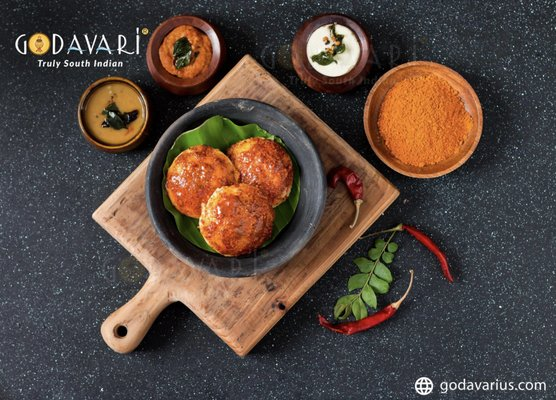sushi: (146, 98, 328, 278), (363, 60, 484, 180), (290, 13, 374, 95)
